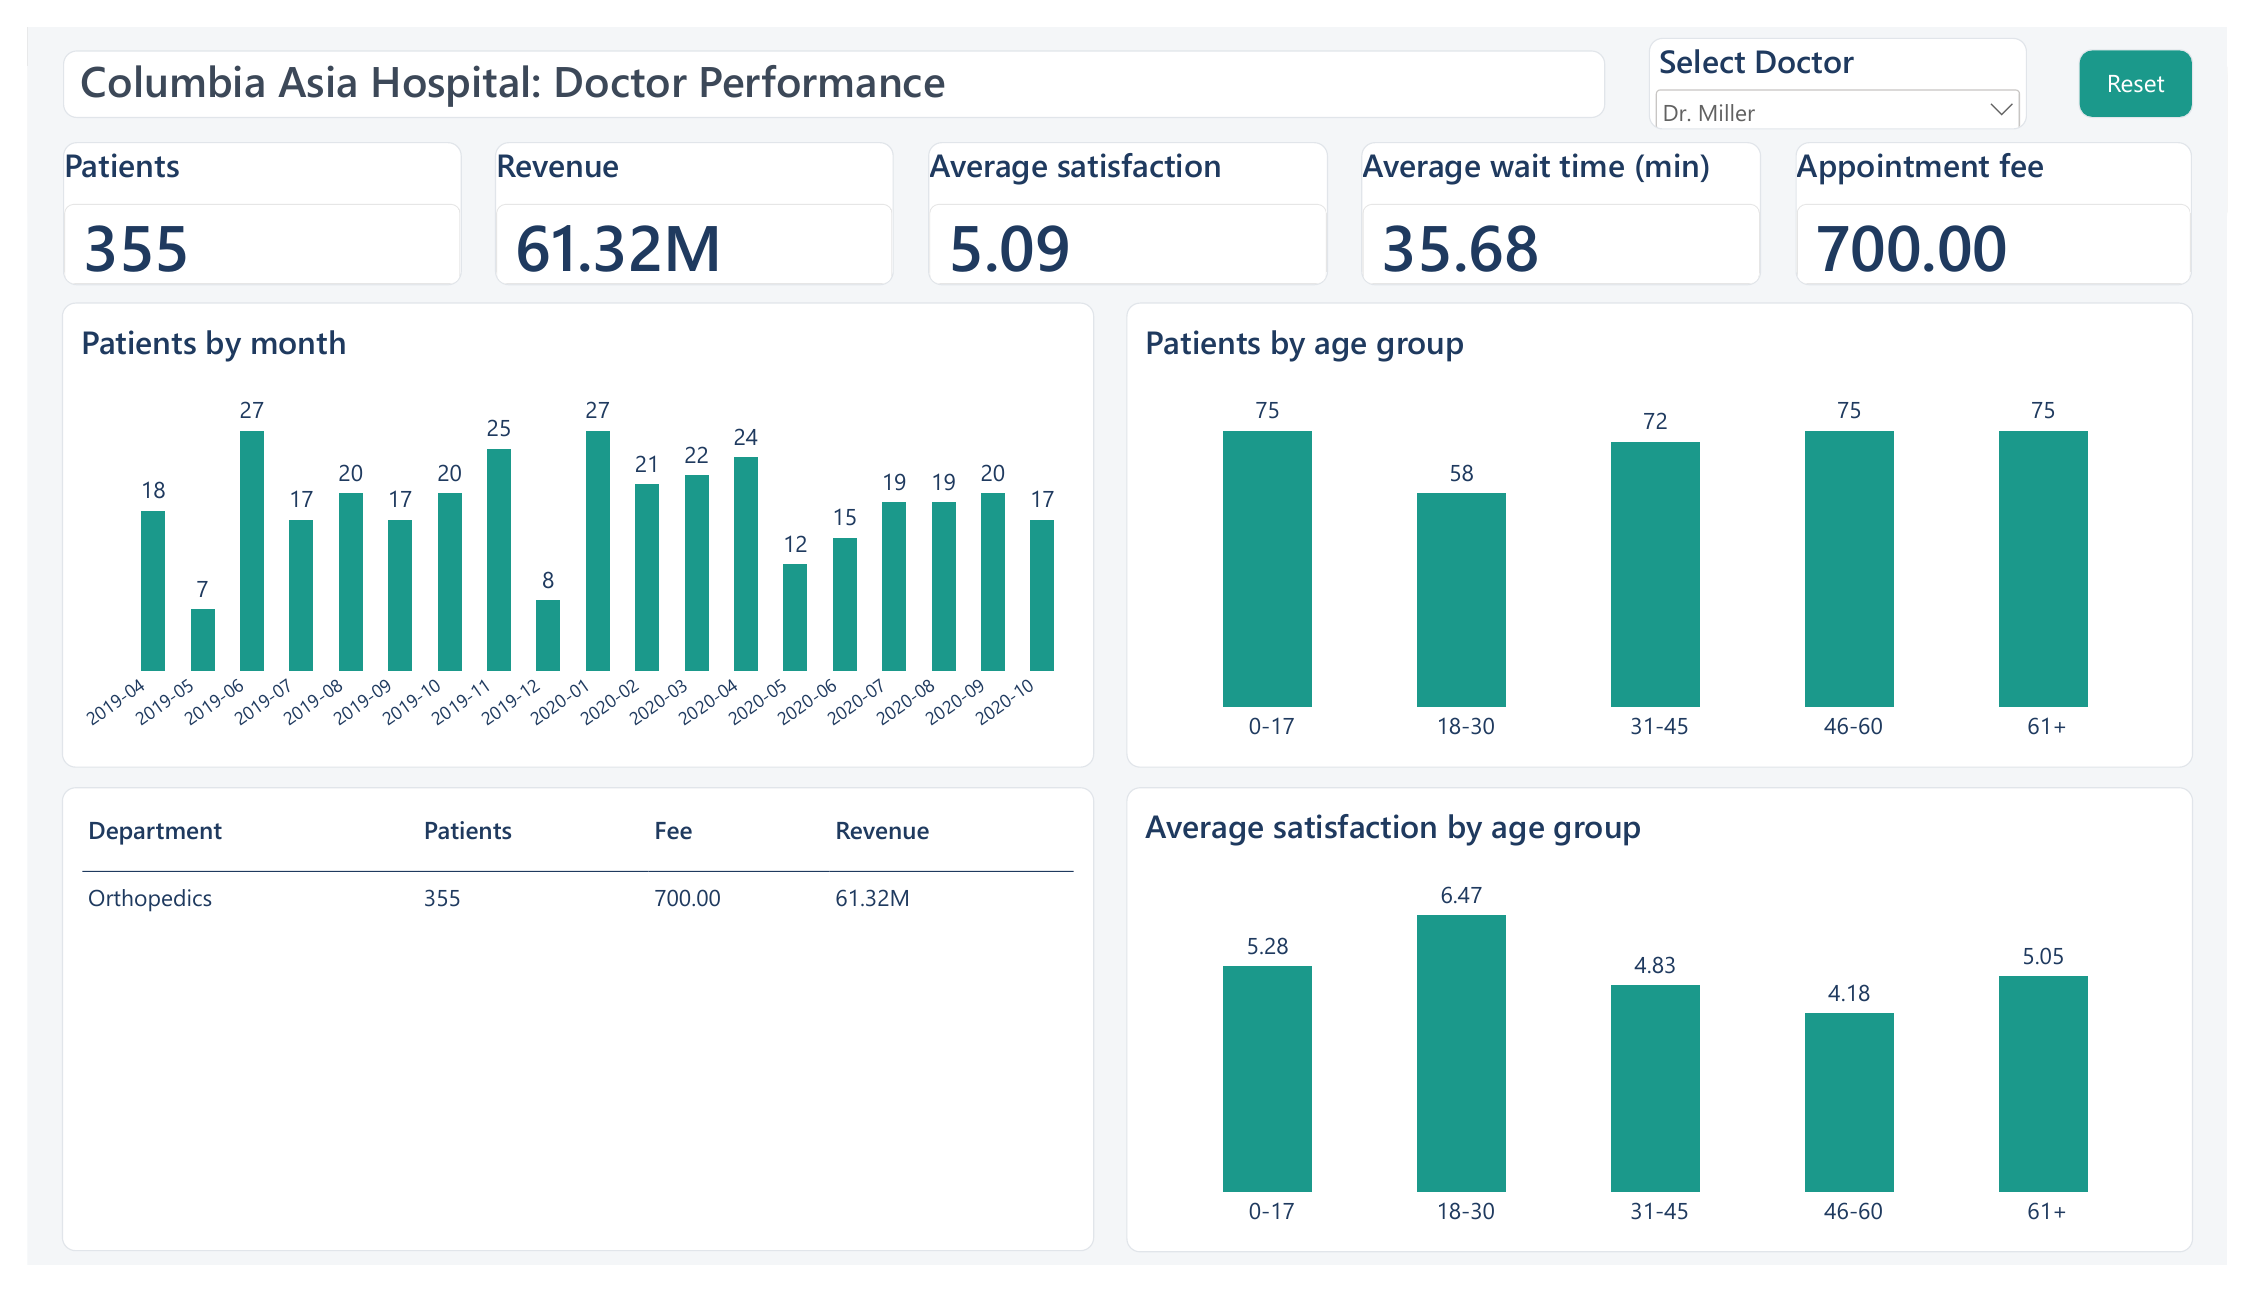

What the dashboard file says about the page in this screenshot:
{"tool":"powerbi","page":{"name":"Doctors","canvas":[1920,1080],"ordinal":1},"visuals":[{"type":"textbox","box":[30.9,19.9,1346.2,59.6],"z":0},{"type":"cardVisual","title":"Patients","fields":{"Data":["hospital_data.total_visits"]},"box":[30.9,100,348,125],"z":1000},{"type":"cardVisual","title":"Revenue","fields":{"Data":["hospital_data.total_revenue"]},"box":[408,100,348,125],"z":2000},{"type":"cardVisual","title":"Average satisfaction","fields":{"Data":["hospital_data.avg_satisfaction"]},"box":[786,100,348.7,125],"z":3000},{"type":"cardVisual","title":"Average wait time (min)","fields":{"Data":["hospital_data.avg_wait_time"]},"box":[1164,100,348.7,125],"z":4000},{"type":"cardVisual","title":"Appointment fee","fields":{"Data":["hospital_data.avg_appointment_fee"]},"box":[1542.6,100,346.5,125],"z":5000},{"type":"actionButton","box":[1790,19,100,60],"z":6000},{"type":"slicer","title":"Select Doctor","fields":{"Values":["hospital_data.doctor_name"]},"box":[1414.8,8.6,330.5,79.9],"z":7000},{"type":"clusteredColumnChart","title":"Patients by month","fields":{"Category":["date_table.year_month"],"Y":["hospital_data.total_visits"]},"box":[30.2,239.8,900.7,406.1],"z":8000},{"type":"clusteredColumnChart","title":"Patients by age group","fields":{"Category":["hospital_data.age_group"],"Y":["hospital_data.total_visits"]},"box":[959,239.8,931,406.1],"z":9000},{"type":"tableEx","fields":{"Values":["hospital_data.department_referral","hospital_data.total_visits","hospital_data.avg_appointment_fee","hospital_data.total_revenue"]},"box":[30.2,663,900.7,405],"z":10000},{"type":"clusteredColumnChart","title":"Average satisfaction by age group","fields":{"Category":["hospital_data.age_group"],"Y":["hospital_data.avg_satisfaction"]},"box":[959,663.1,931,406.1],"z":11000}]}

Visuals, with their boxes in screenshot pixels (x1, y1, x2, y2), scaled from the page's 1920x1080 canvas onto the 2255x1293 screenshot:
textbox: <region>36, 24, 1617, 95</region>
"Patients" cardVisual: <region>36, 120, 445, 269</region>
"Revenue" cardVisual: <region>479, 120, 888, 269</region>
"Average satisfaction" cardVisual: <region>923, 120, 1333, 269</region>
"Average wait time (min)" cardVisual: <region>1367, 120, 1777, 269</region>
"Appointment fee" cardVisual: <region>1812, 120, 2219, 269</region>
actionButton: <region>2102, 23, 2220, 95</region>
"Select Doctor" slicer: <region>1662, 10, 2050, 106</region>
"Patients by month" clusteredColumnChart: <region>35, 287, 1093, 773</region>
"Patients by age group" clusteredColumnChart: <region>1126, 287, 2220, 773</region>
tableEx - hospital_data.department_referral x hospital_data.total_visits: <region>35, 794, 1093, 1279</region>
"Average satisfaction by age group" clusteredColumnChart: <region>1126, 794, 2220, 1280</region>
